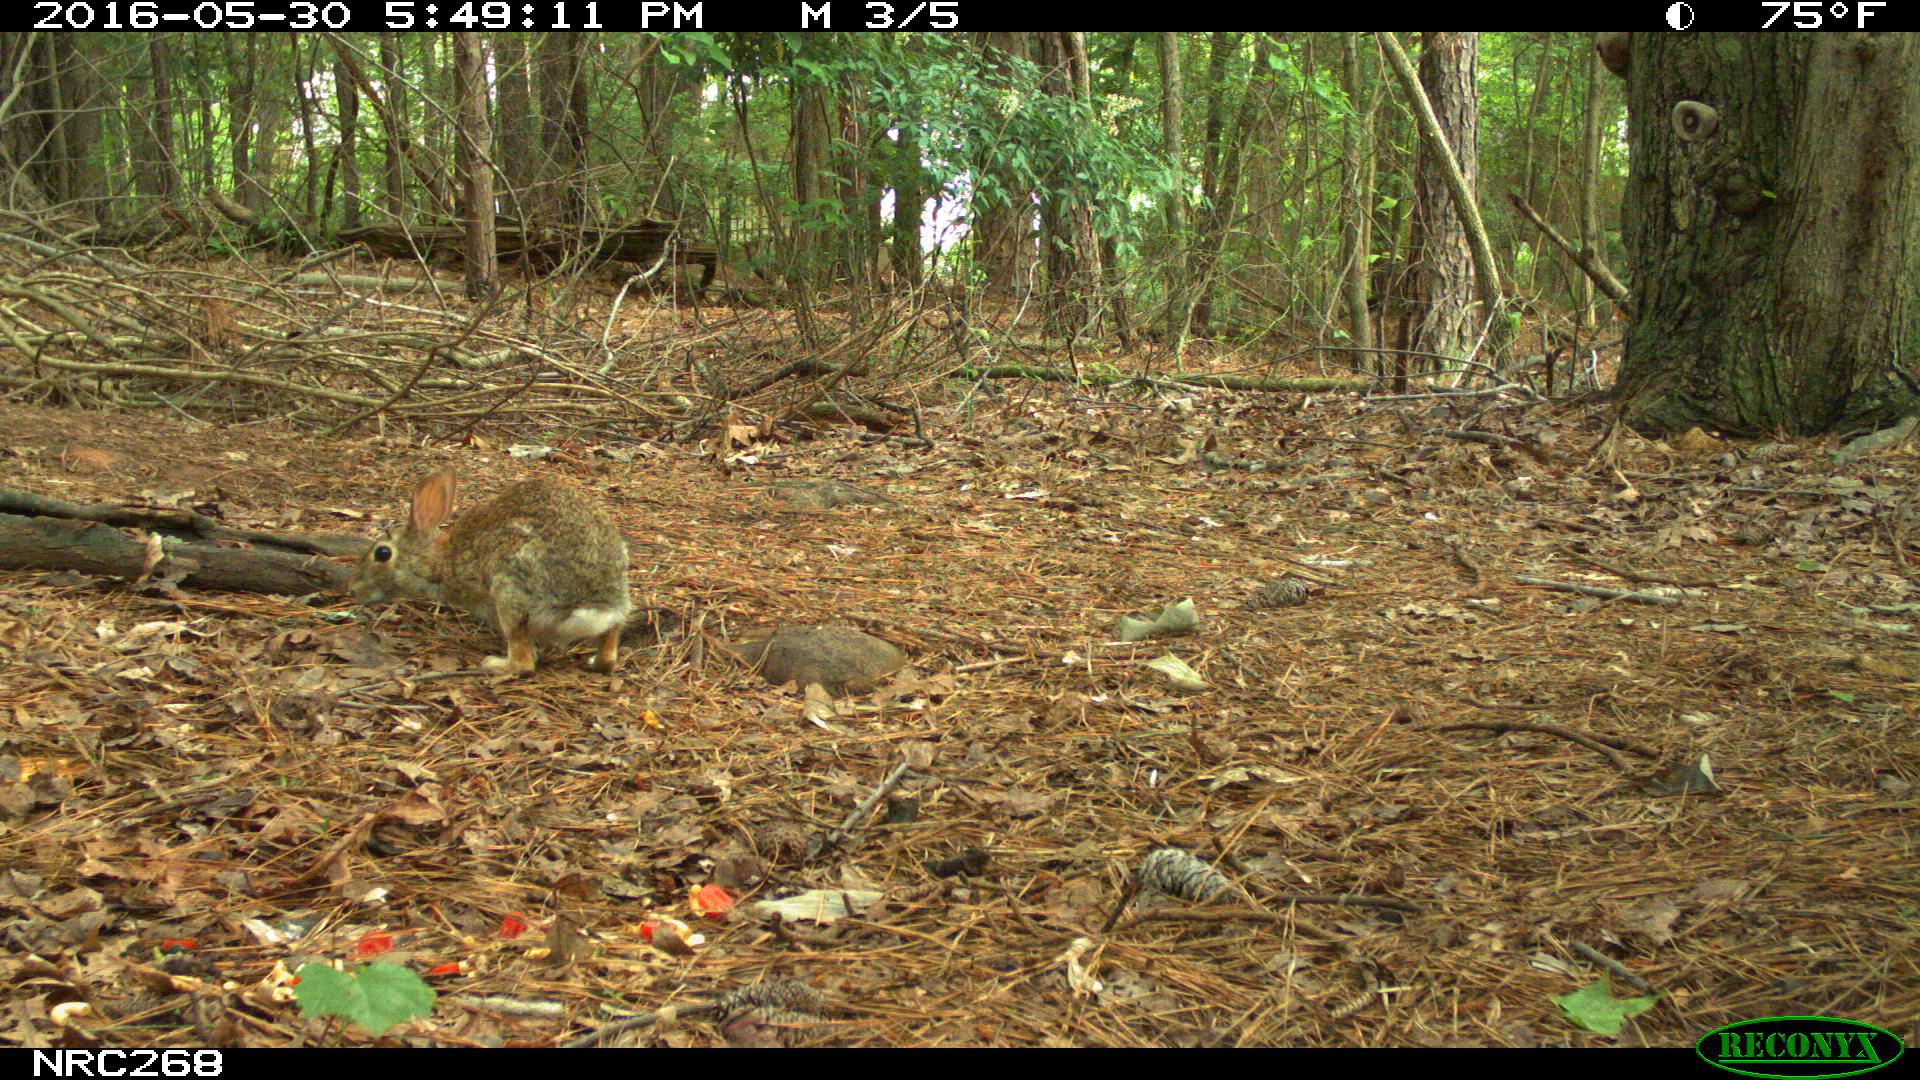Animal: (349, 469, 632, 680)
